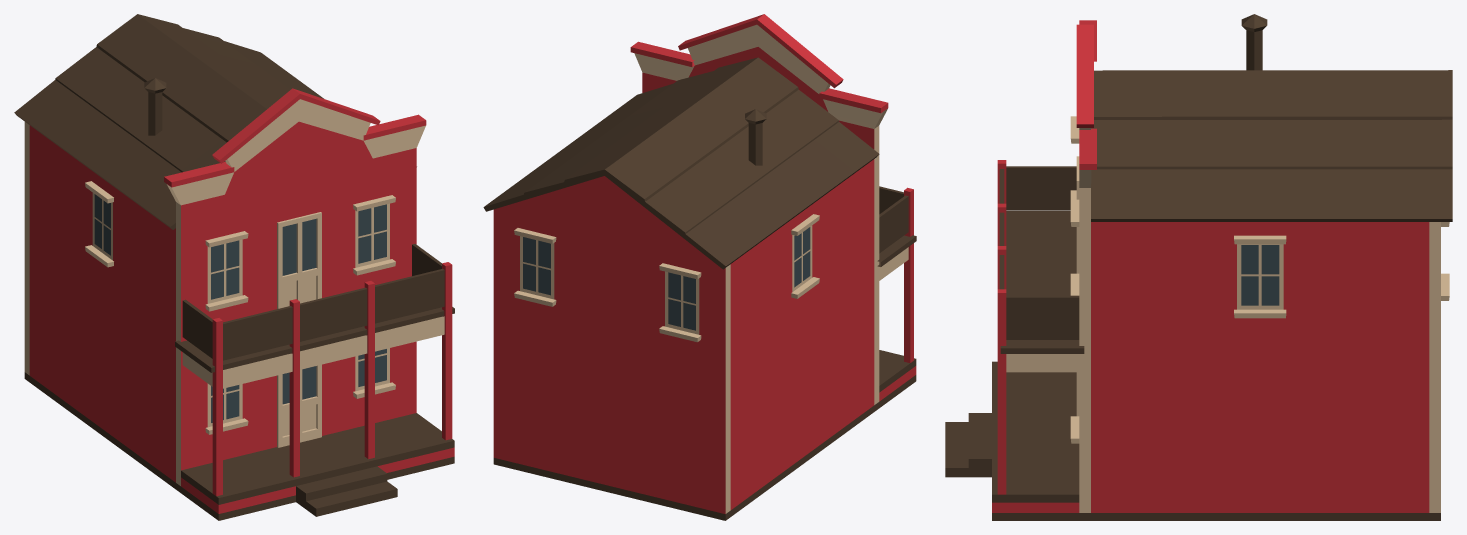
File: western_hotel-western.fbx
3 renders of one model, left to right at view 1: azimuth 30°, elevation 25°; view 2: azimuth 150°, elevation 25°; view 3: azimuth 270°, elevation 25°, orthographic. The views are drawn at different scales.
Parts seen in each view (by area): view 1: western_hotel_western; view 2: western_hotel_western; view 3: western_hotel_western.
Part boxes in pixels (box(x1,y1,x2,y2)): western_hotel_western: box(14, 14, 454, 520); western_hotel_western: box(483, 14, 916, 520); western_hotel_western: box(945, 14, 1452, 520).
Bounding box in the file's own units: 134 × 187 × 200.
